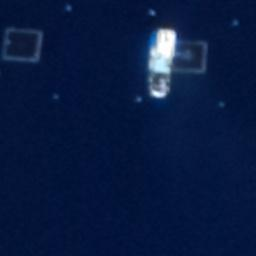square_cover: (1, 23, 47, 65), (165, 35, 211, 76)
